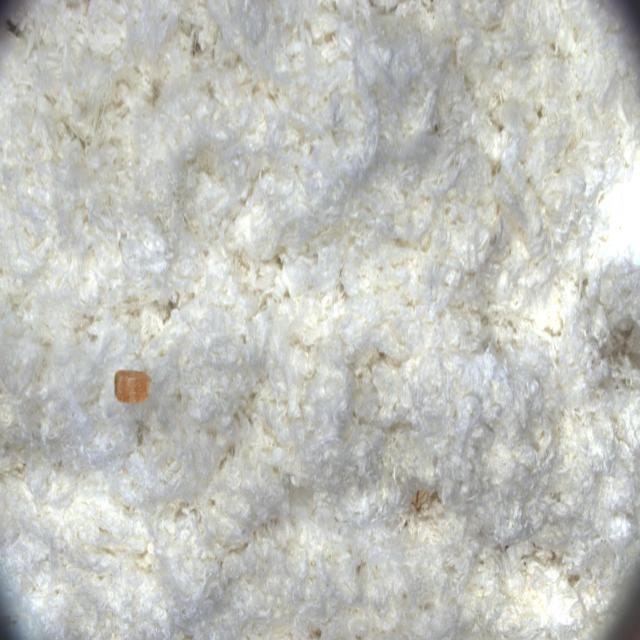dust: (87, 335, 173, 428)
